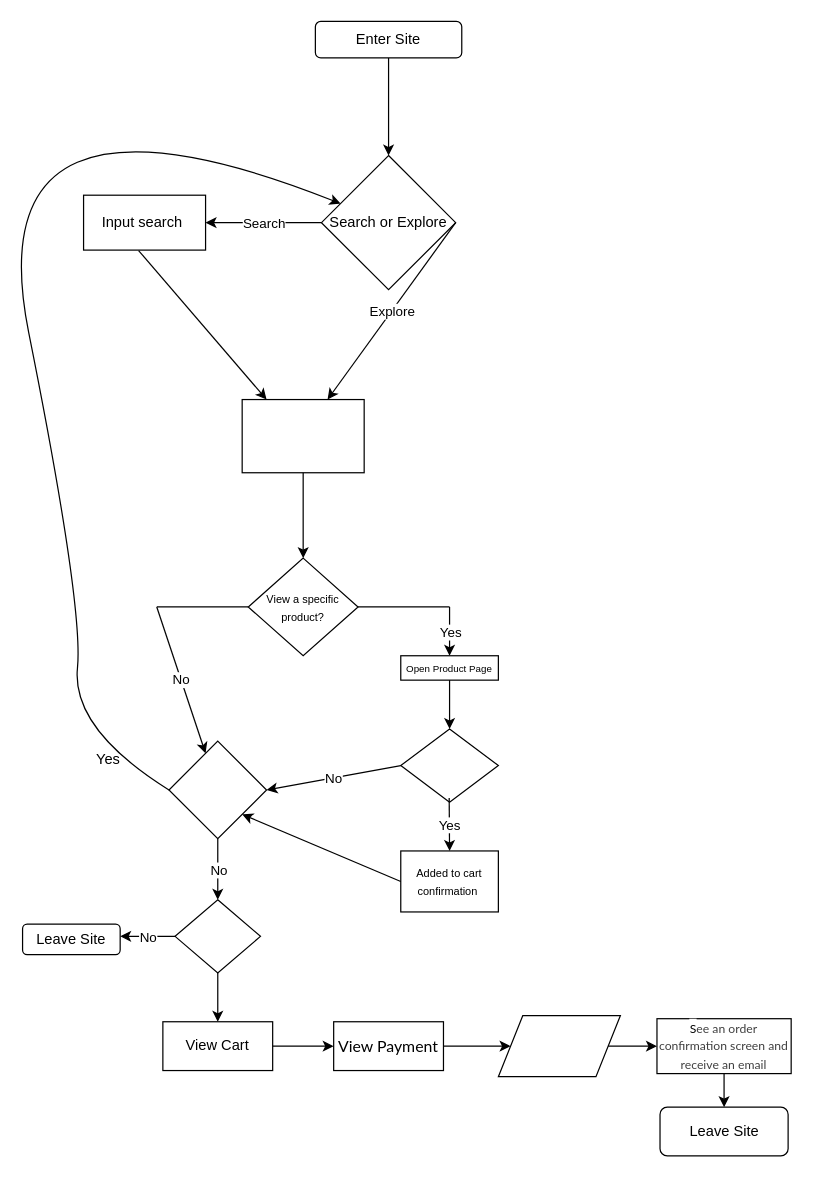
Image size: 813x1177. Some labels were removed from this diagram. The centre of each missing label's shape, as x and y in pixels:
"Add to Cart?" goes at pixel 449 765.
"Browse products" goes at pixel 302 435.
"Checkout?" goes at pixel 217 936.
"Continue Shopping?" goes at pixel 217 789.
"Input Payment information" goes at pixel 558 1045.
